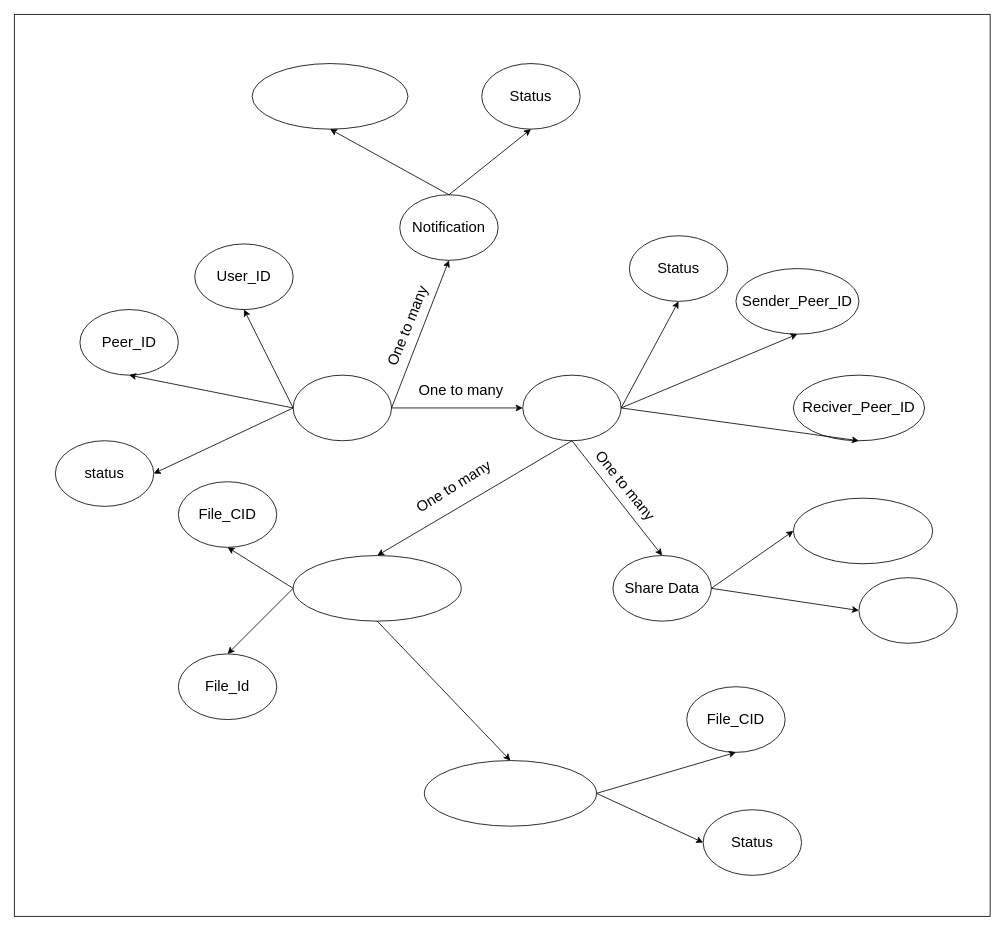
The diagram is 1005 pixels wide and 931 high, and some of its shapes have lost their labels. The centre of each missing label's shape, as x and y in pixels:
"Connection" goes at point (571, 407).
"Message_queue" goes at point (510, 793).
"Notification_Message" goes at point (329, 96).
"timestamp" goes at point (907, 610).
"transfer_status" goes at point (863, 530).
"Upload data to IPFS" goes at point (376, 588).
"User" goes at point (342, 407).
